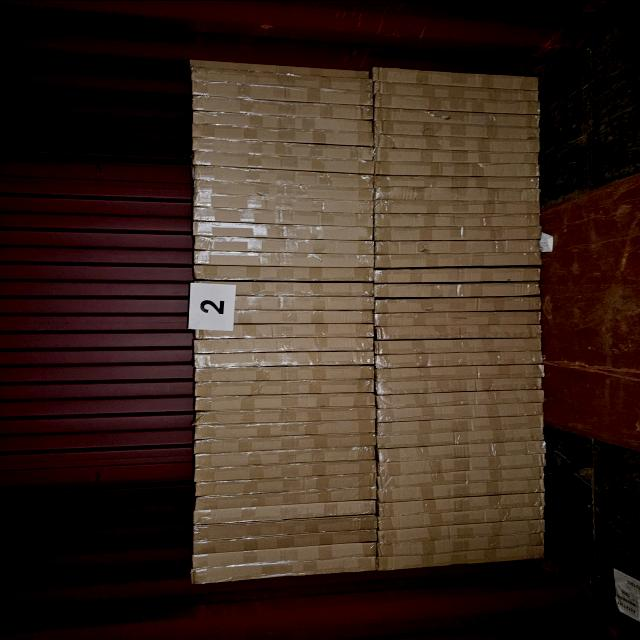Carton: (190, 553, 380, 583), (193, 540, 381, 569), (192, 486, 376, 515), (374, 416, 544, 446), (375, 542, 549, 570), (379, 530, 549, 558), (193, 515, 383, 540), (193, 296, 379, 320), (370, 64, 540, 90), (378, 505, 546, 531), (377, 478, 547, 503), (189, 220, 373, 243), (192, 191, 374, 214), (192, 322, 380, 344), (373, 395, 545, 419), (188, 247, 374, 269), (190, 460, 382, 481), (192, 360, 382, 380), (192, 350, 380, 370), (192, 331, 380, 351), (372, 157, 542, 179), (372, 79, 540, 101), (372, 242, 538, 264), (372, 211, 540, 232), (372, 218, 544, 238), (190, 394, 380, 412), (374, 119, 540, 139), (373, 336, 544, 354), (373, 309, 541, 327), (372, 268, 540, 286), (190, 264, 377, 280), (372, 363, 544, 379), (193, 266, 375, 281)
